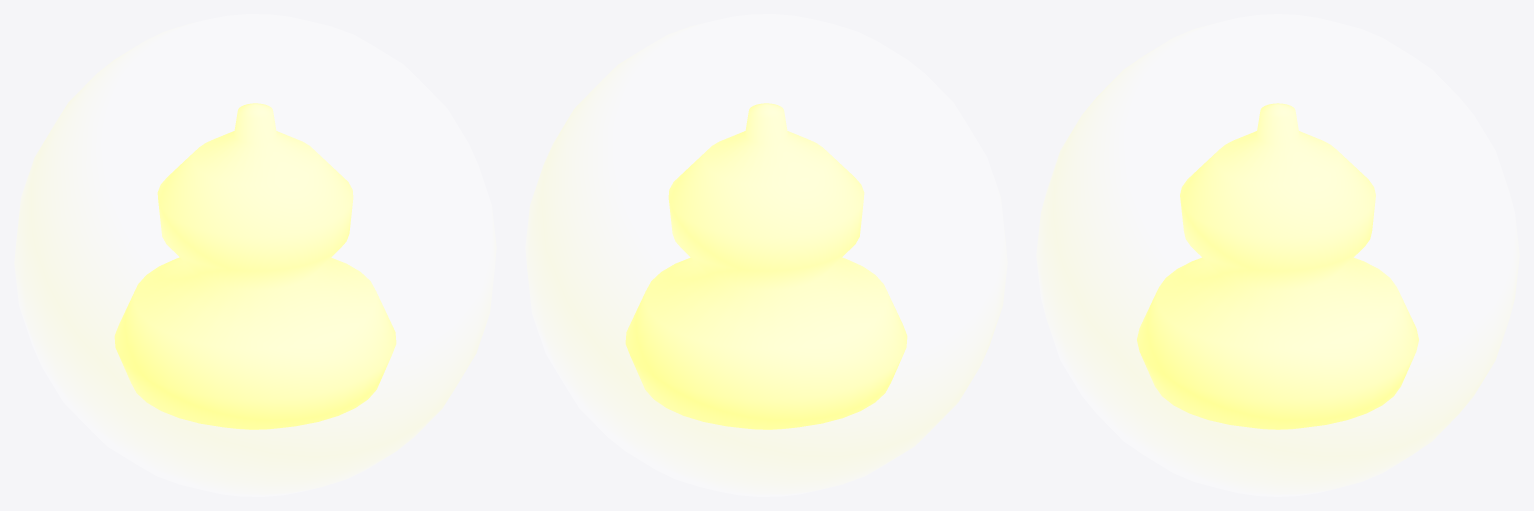
The model's file is Orb_03_明黄灵珠.glb.
The picture shows the model from 3 angles, left to right: view 1: azimuth 30°, elevation 25°; view 2: azimuth 150°, elevation 25°; view 3: azimuth 270°, elevation 25°; orthographic projection.
Parts seen in each view (by area): view 1: Sphere, SpiritGourd; view 2: Sphere, SpiritGourd; view 3: Sphere, SpiritGourd.
Part boxes in pixels (<box>): Sphere: <box>14,14,496,496</box>; SpiritGourd: <box>114,103,396,429</box>; Sphere: <box>525,14,1007,496</box>; SpiritGourd: <box>625,103,907,429</box>; Sphere: <box>1036,14,1519,496</box>; SpiritGourd: <box>1137,103,1418,429</box>.
Size of the model in its own units: 0.96 by 0.96 by 0.96.
